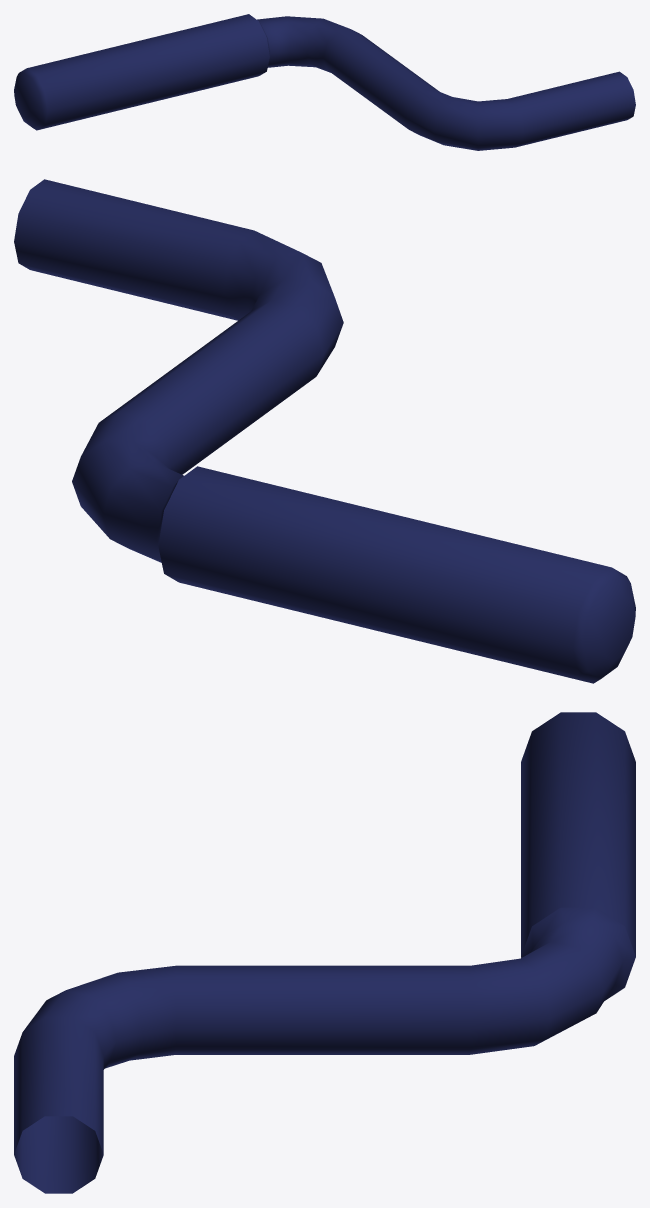
File: GG_RECORDPLAYER_CRANK.FBX
The picture shows the model from 3 angles, top to bottom: view 1: azimuth 30°, elevation 25°; view 2: azimuth 150°, elevation 25°; view 3: azimuth 270°, elevation 25°; orthographic projection. The views are drawn at different scales.
Parts seen in each view (by area): view 1: Object617; view 2: Object617; view 3: Object617.
Part boxes in pixels (<box>): Object617: <box>14,14,635,150</box>; Object617: <box>14,179,635,683</box>; Object617: <box>14,712,635,1193</box>.
Size of the model in its own units: 20.4 by 2.35 by 13.38.
